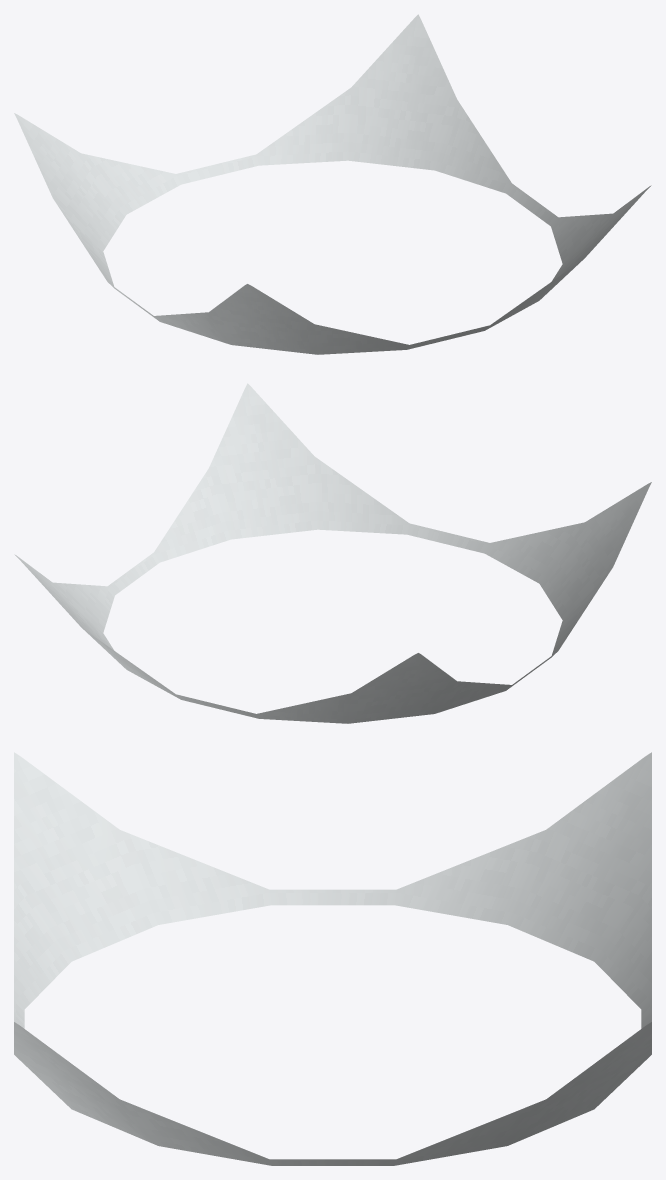
Rendered from spheroid_small_0_1_1.obj.
3 views of the same model, one above another, from view 1: azimuth 30°, elevation 25°; view 2: azimuth 150°, elevation 25°; view 3: azimuth 270°, elevation 25° (orthographic). The views are drawn at different scales.
Parts seen in each view (by area): view 1: spheroid_small_0_1_1; view 2: spheroid_small_0_1_1; view 3: spheroid_small_0_1_1.
Boxes of the visible parts, x1,y1,x2,y2 form: spheroid_small_0_1_1: (14, 14, 651, 354); spheroid_small_0_1_1: (14, 383, 651, 723); spheroid_small_0_1_1: (14, 752, 651, 1165).
Size of the model in its own units: 3 by 0.7713 by 3.
